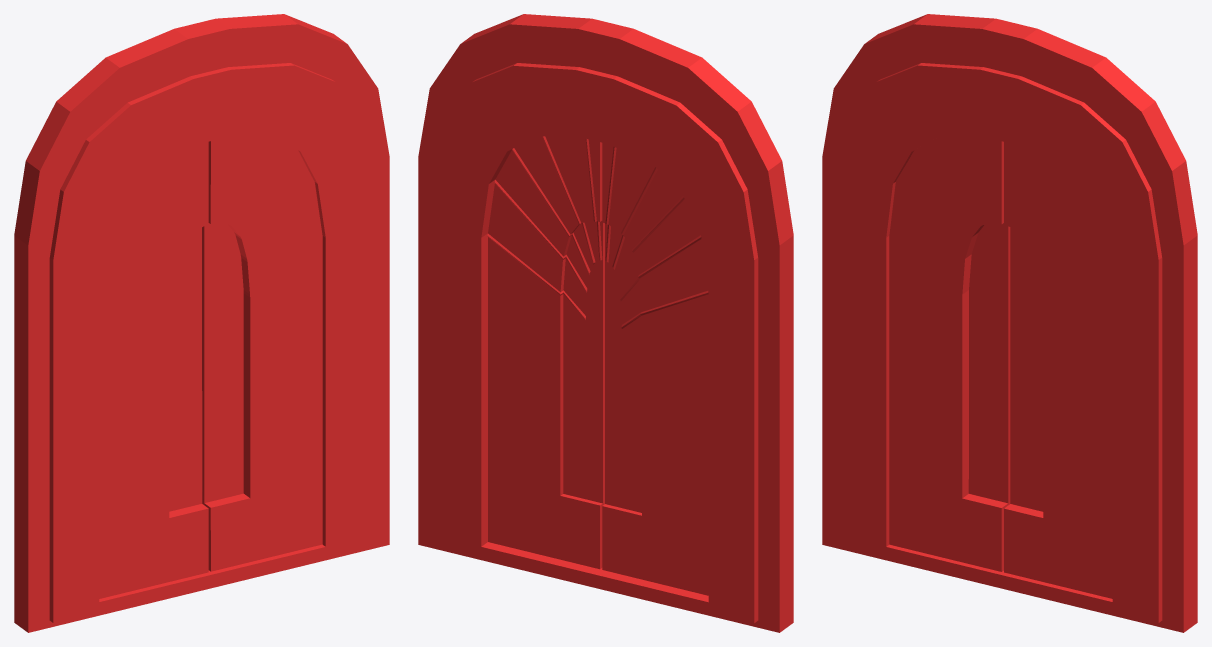
The model's file is env_mov_porte.fbx.
3 renders of one model, left to right at view 1: azimuth 30°, elevation 25°; view 2: azimuth 150°, elevation 25°; view 3: azimuth 330°, elevation 25°, orthographic.
Visible parts, largest first — view 1: porte_v1; view 2: porte_v1; view 3: porte_v1.
Part boxes in pixels (bbox=[...]): porte_v1: bbox=[14, 14, 389, 632]; porte_v1: bbox=[418, 14, 793, 632]; porte_v1: bbox=[822, 14, 1197, 632].
Bounding box in the file's own units: 146 × 215 × 15.18.
